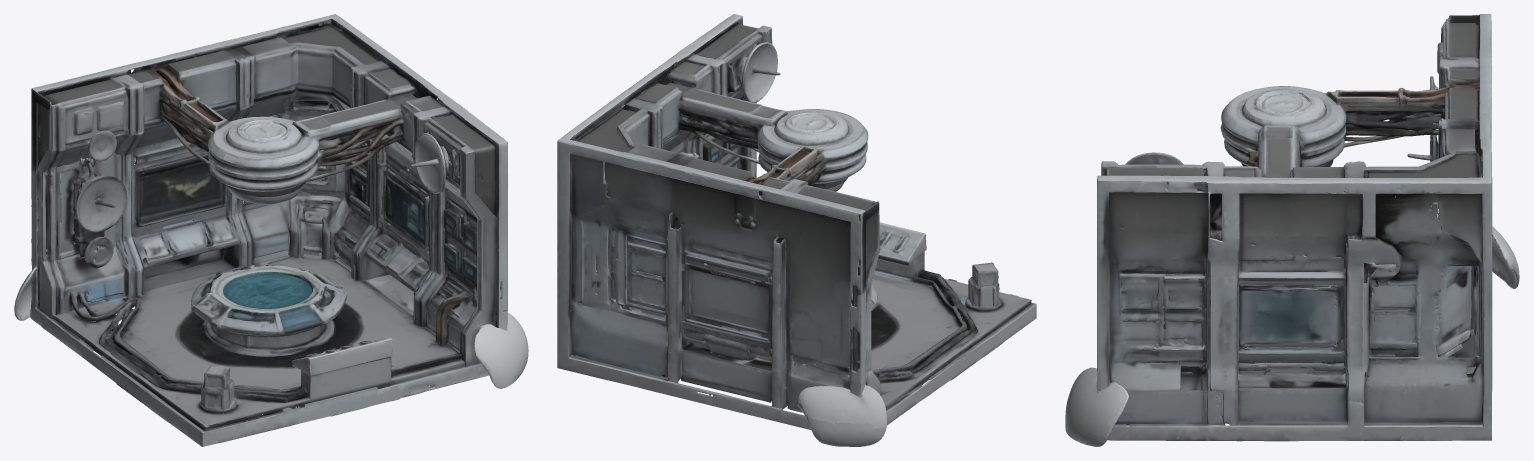
Rendered from place_comms.glb.
The picture shows the model from 3 angles, left to right: view 1: azimuth 30°, elevation 25°; view 2: azimuth 150°, elevation 25°; view 3: azimuth 270°, elevation 25°; orthographic projection. The views are drawn at different scales.
Parts seen in each view (by area): view 1: world; view 2: world; view 3: world.
Boxes of the visible parts, x1=… form: world: x1=14, y1=14, x2=528, y2=446; world: x1=557, y1=14, x2=1036, y2=446; world: x1=1065, y1=14, x2=1519, y2=446.
Bounding box in the file's own units: 0.35 × 0.2233 × 0.3504.
1 material, 1 textured.
